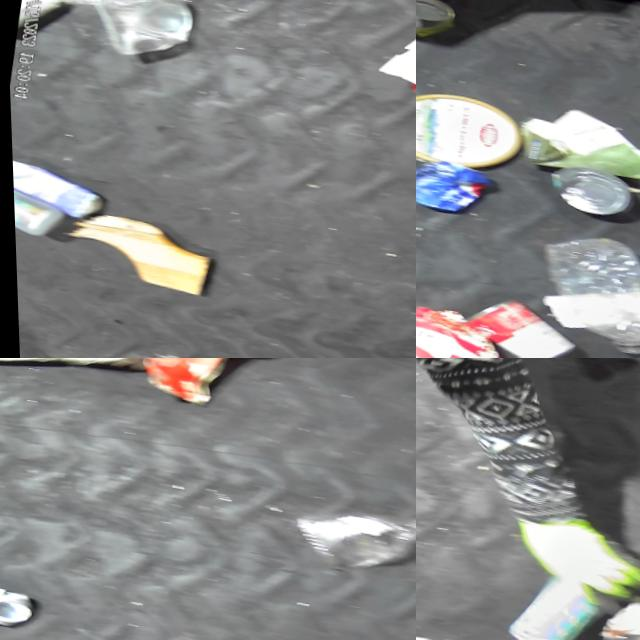can: (457, 292, 581, 358), (79, 0, 201, 67), (541, 160, 638, 224), (416, 151, 497, 222), (590, 594, 640, 640), (416, 0, 461, 44), (0, 575, 33, 633)
plastic_bottle: (523, 226, 640, 358), (284, 484, 416, 593)
